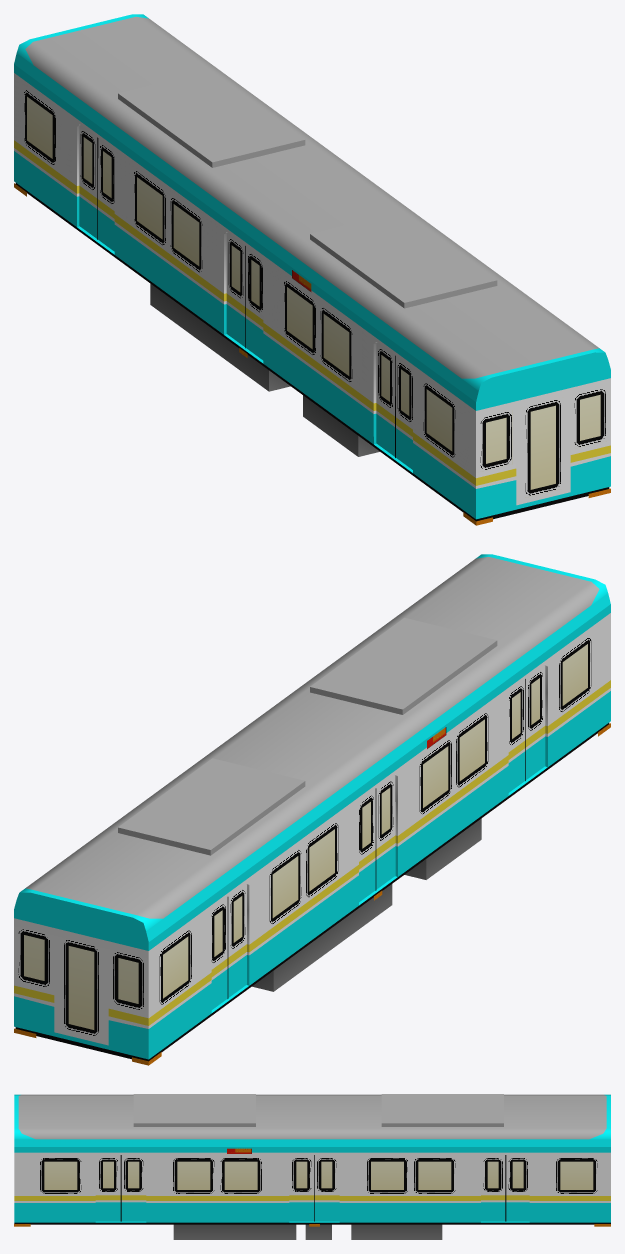
3 renders of one model, top to bottom at view 1: azimuth 30°, elevation 25°; view 2: azimuth 150°, elevation 25°; view 3: azimuth 270°, elevation 25°, orthographic. The views are drawn at different scales.
Visible parts, largest first — view 1: obj4; view 2: obj4; view 3: obj4.
Part boxes in pixels (bbox=[...]): obj4: bbox=[14, 14, 610, 525]; obj4: bbox=[14, 554, 610, 1065]; obj4: bbox=[14, 1094, 610, 1239].
Bounding box in the file's own units: 6.09 × 7.41 × 35.89.
9 materials, 9 textured.
